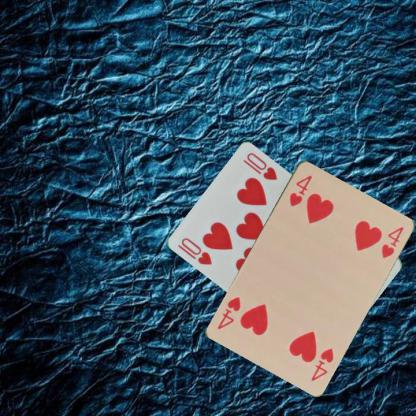10h: (178, 235, 214, 266)
4h: (286, 172, 314, 208), (308, 345, 335, 382)
